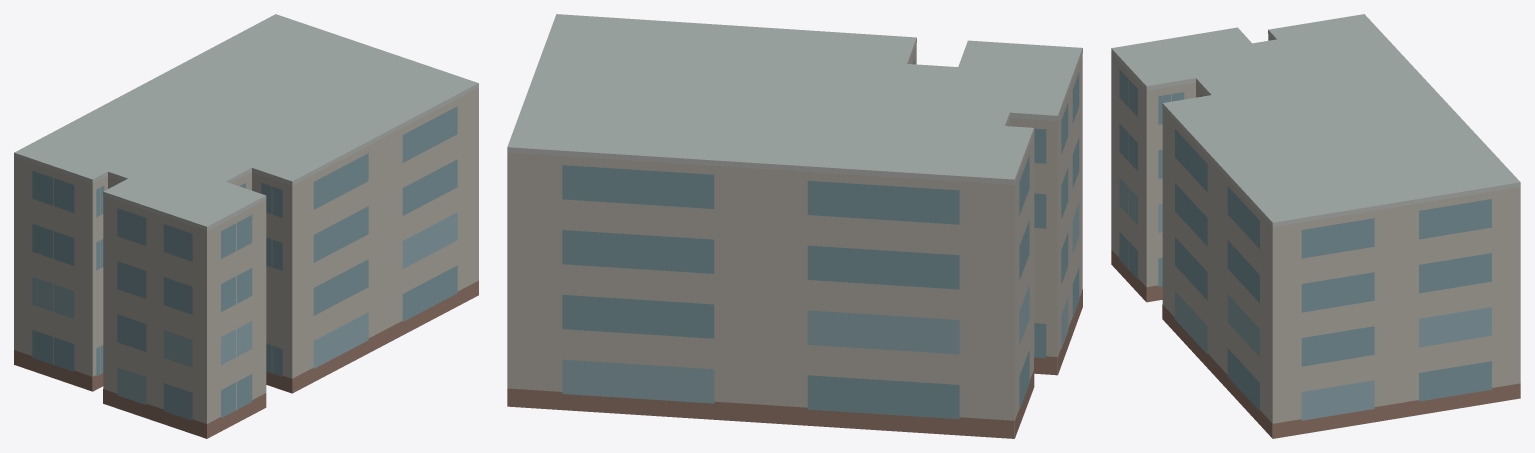
Rendered from survey-upis-32646243.glb.
3 renders of one model, left to right at view 1: azimuth 30°, elevation 25°; view 2: azimuth 150°, elevation 25°; view 3: azimuth 270°, elevation 25°, orthographic. The views are drawn at different scales.
Visible parts, largest first — view 1: survey-upis-32646243.tmp; view 2: survey-upis-32646243.tmp; view 3: survey-upis-32646243.tmp.
Boxes of the visible parts, bbox=[...] form: survey-upis-32646243.tmp: bbox=[14, 14, 478, 438]; survey-upis-32646243.tmp: bbox=[507, 14, 1082, 438]; survey-upis-32646243.tmp: bbox=[1111, 14, 1520, 438].
Size of the model in its own units: 24.45 by 11.8 by 20.27.
